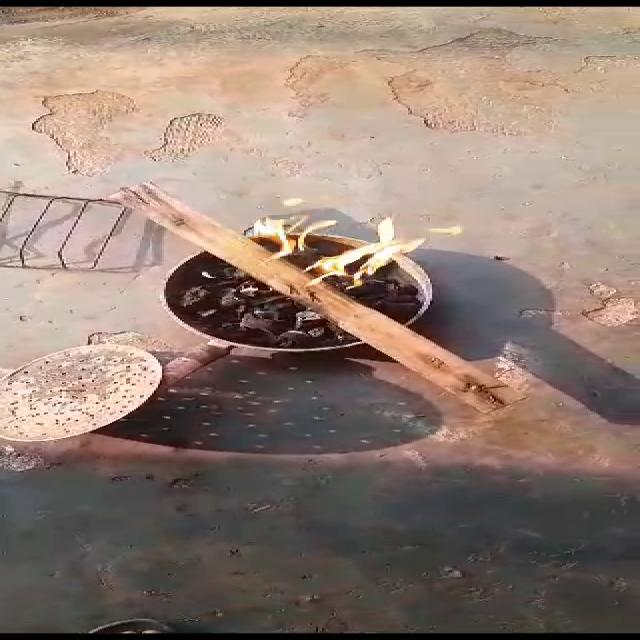Fire: (315, 214, 453, 299), (242, 188, 335, 261)
